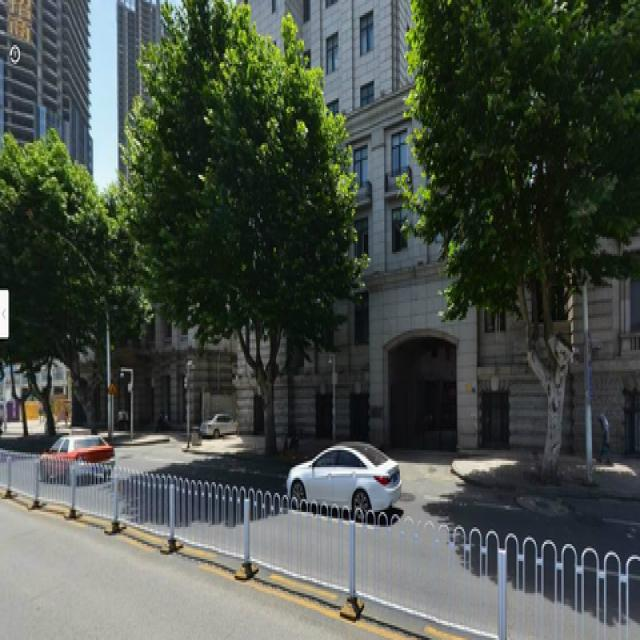meta: (129, 8, 352, 461)
